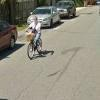bicycles: (25, 30, 43, 60)
